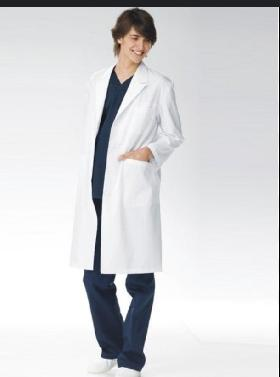lab_coat: (69, 65, 189, 376)
